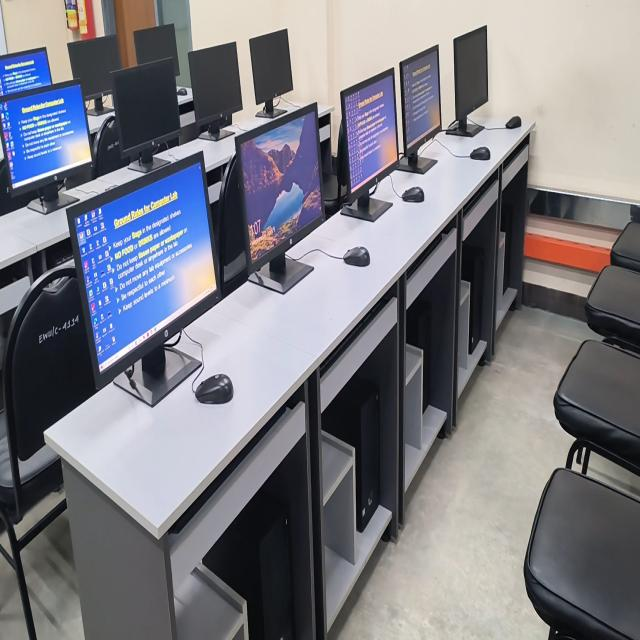Chair: (0, 260, 97, 570), (524, 469, 640, 639), (553, 341, 640, 473), (211, 156, 247, 296), (585, 265, 640, 346), (610, 223, 640, 272)
Cpu: (203, 440, 304, 639), (322, 377, 380, 530), (462, 240, 484, 353)
Fire Extinguisher: (64, 0, 97, 39)
Monitor: (69, 159, 218, 383), (236, 110, 323, 270), (0, 81, 91, 195), (338, 69, 399, 217), (112, 58, 180, 173), (189, 42, 242, 141), (400, 45, 441, 170), (445, 26, 488, 136), (249, 29, 293, 119), (67, 36, 121, 100), (0, 48, 52, 96), (134, 24, 180, 75)
Mouse: (195, 374, 233, 404), (343, 246, 370, 267), (401, 187, 424, 202), (470, 146, 490, 160), (506, 116, 521, 129), (177, 87, 188, 97)
